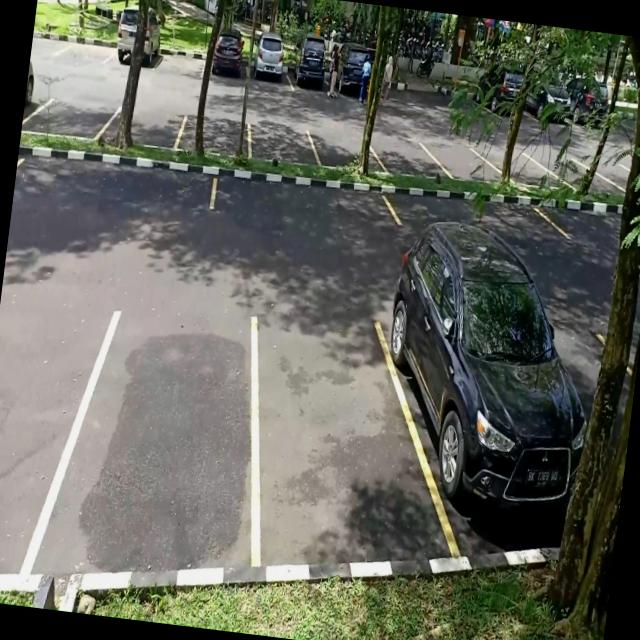car: (378, 260, 596, 569), (247, 36, 294, 92), (110, 22, 162, 72), (290, 40, 336, 96), (203, 32, 250, 84)
free: (43, 296, 272, 589), (230, 311, 421, 584), (0, 299, 87, 583), (13, 142, 218, 216), (210, 168, 400, 237), (390, 188, 560, 242), (30, 90, 116, 142), (109, 103, 185, 151), (178, 112, 253, 159), (248, 122, 317, 166), (313, 130, 380, 174), (372, 136, 436, 178), (436, 140, 496, 183), (57, 29, 115, 68), (156, 43, 206, 78), (29, 26, 66, 61)
